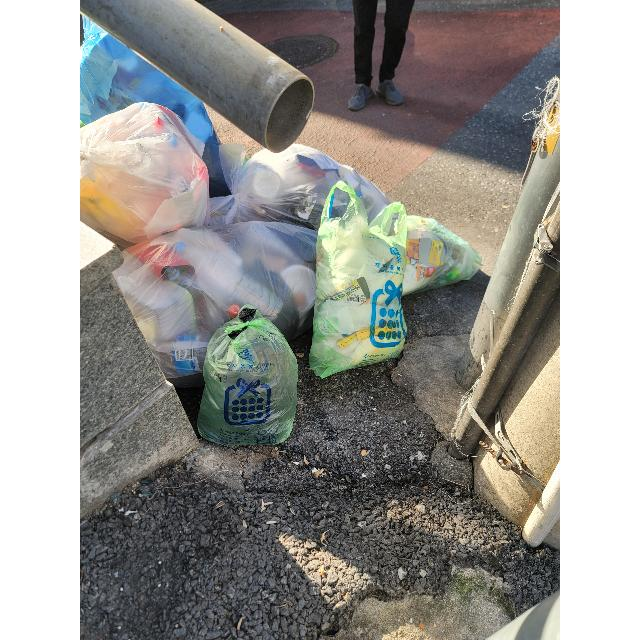general_trashbag: (189, 314, 302, 453), (315, 205, 400, 386), (392, 214, 480, 296)
other_trashbag: (120, 221, 326, 379), (206, 139, 402, 234), (80, 102, 205, 240), (80, 58, 210, 170)
